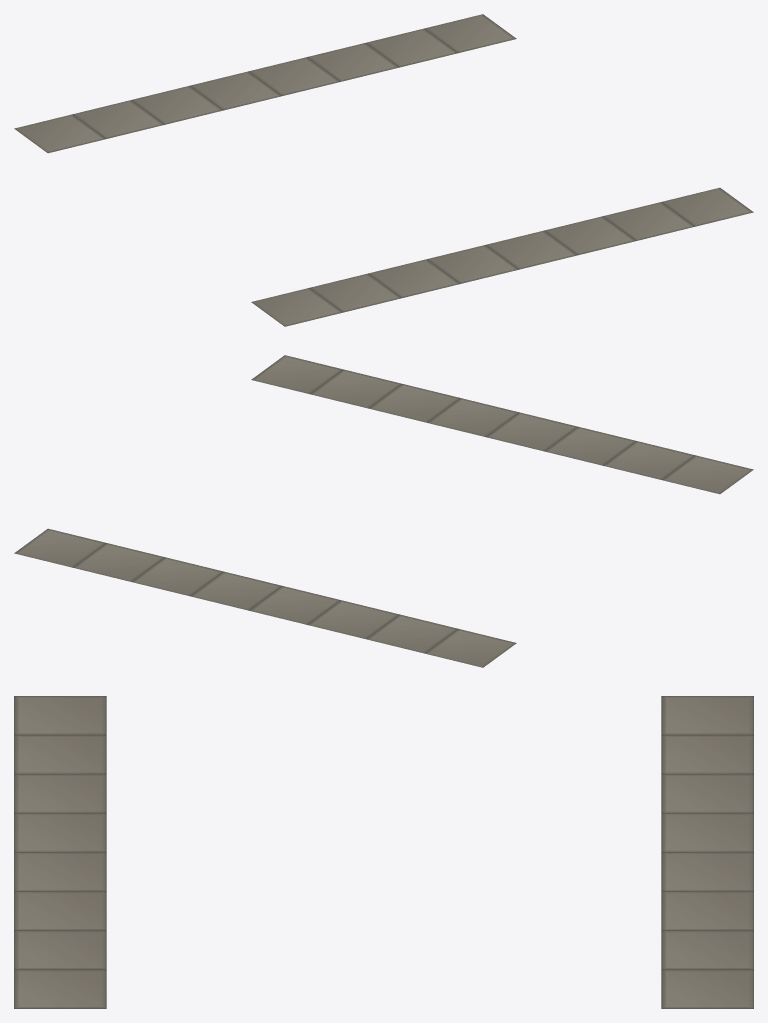
Rendered from sidewalk_straight.glb.
3 renders of one model, top to bottom at view 1: azimuth 30°, elevation 25°; view 2: azimuth 150°, elevation 25°; view 3: azimuth 270°, elevation 25°, orthographic. The views are drawn at different scales.
Parts seen in each view (by area): view 1: road_section_x8_sidewalk; view 2: road_section_x8_sidewalk; view 3: road_section_x8_sidewalk.
Part boxes in pixels (x1=…): road_section_x8_sidewalk: x1=14, y1=14, x2=753, y2=326; road_section_x8_sidewalk: x1=14, y1=355, x2=753, y2=667; road_section_x8_sidewalk: x1=14, y1=696, x2=753, y2=1008.
Bounding box in the file's own units: 16 × 2.7e-06 × 16.
1 material, 1 textured.
